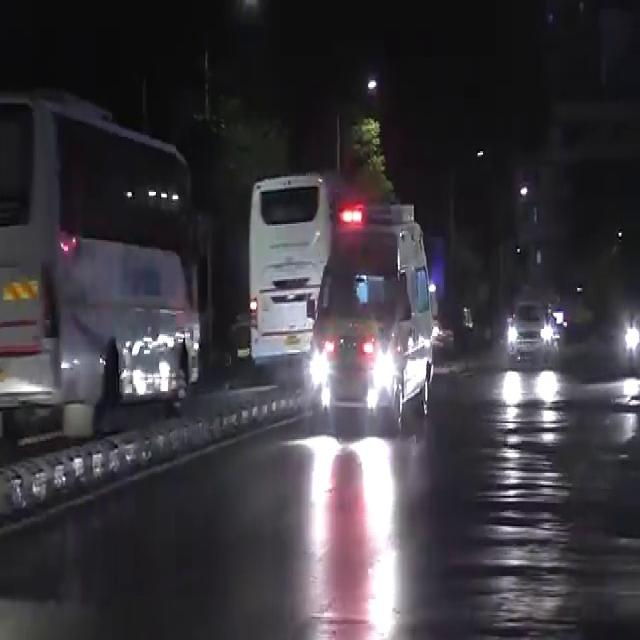ambulance: (290, 204, 440, 423)
